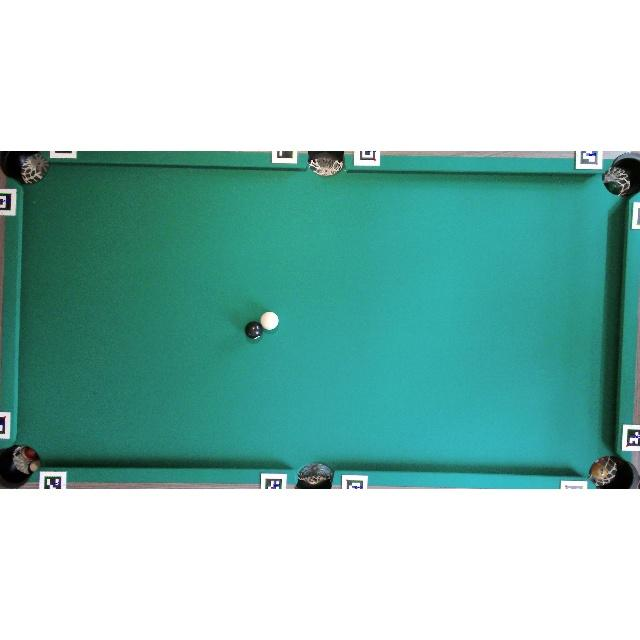cue ball: (260, 311, 279, 330)
other: (590, 463, 610, 481), (245, 321, 263, 340)
